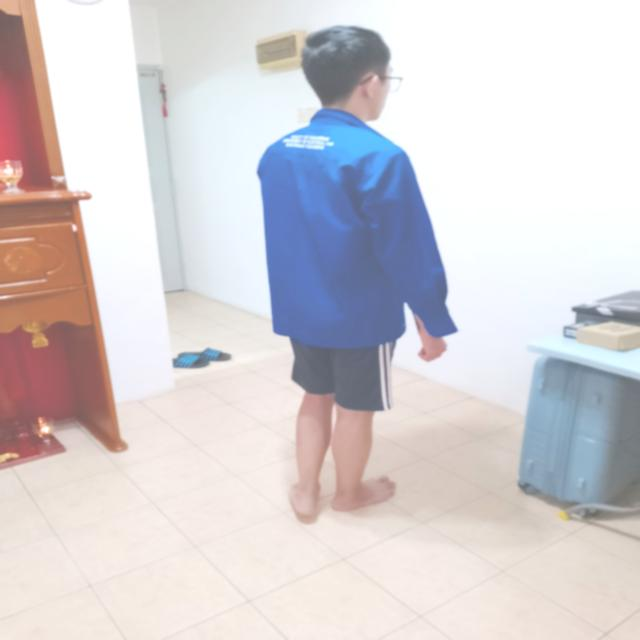person_with_labcoat: (258, 25, 457, 522)
